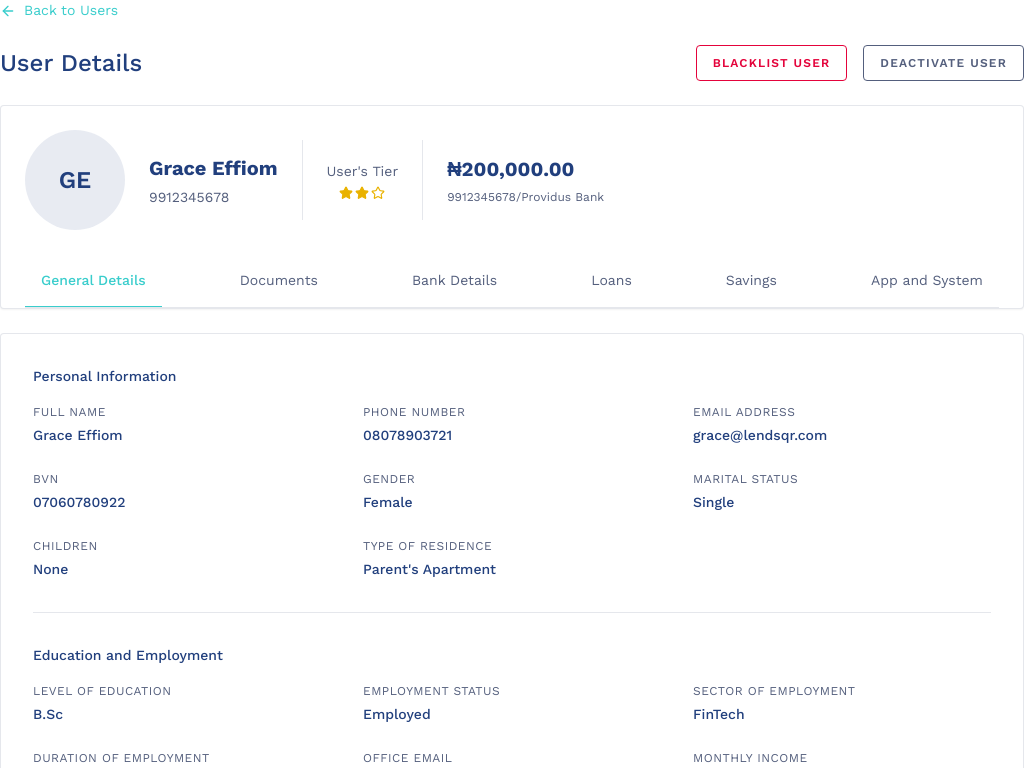
Test: UserDetailsPage › tabs › swaps the panel when another tab is selected
Check: the heading "User Details" is shown, box [0, 45, 142, 81]
What coordinates should you click on to do the following:
click the tab "Bank Details"
I would click on:
 (455, 280)
Its box is [396, 254, 513, 307].
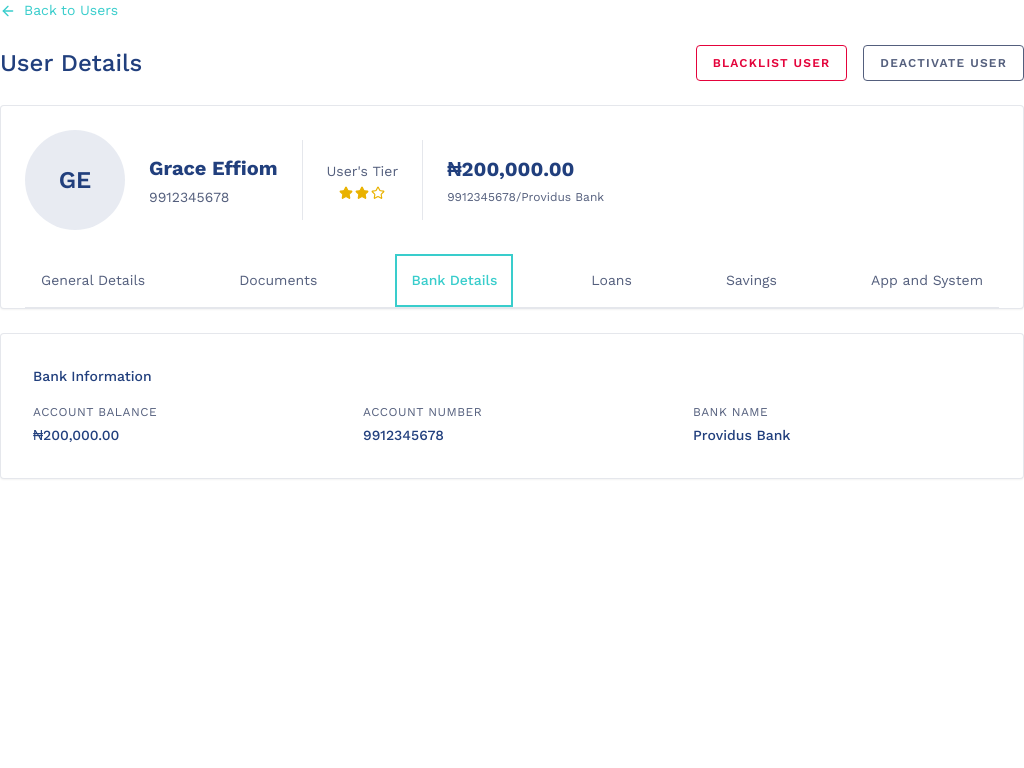
Check: the heading "Bank Information" is shown, box [33, 368, 152, 384]
Check: the heading "Personal Information" is gone
